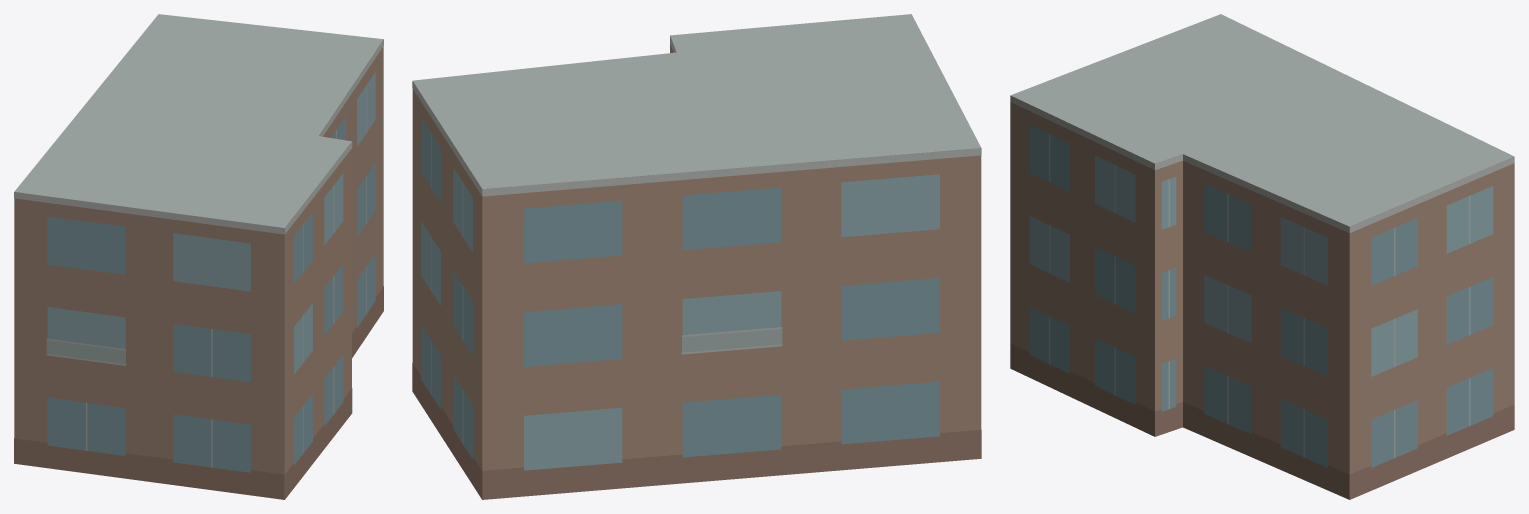
File: survey-upis-32839002.glb
3 views of the same model, side by side, from view 1: azimuth 30°, elevation 25°; view 2: azimuth 150°, elevation 25°; view 3: azimuth 270°, elevation 25° (orthographic). The views are drawn at different scales.
Visible parts, largest first — view 1: survey-upis-32839002.tmp; view 2: survey-upis-32839002.tmp; view 3: survey-upis-32839002.tmp.
Part boxes in pixels (box(x1,y1,x2,y2)): survey-upis-32839002.tmp: box(14, 14, 383, 499); survey-upis-32839002.tmp: box(412, 14, 981, 499); survey-upis-32839002.tmp: box(1010, 14, 1514, 499).
Size of the model in its own units: 17.04 by 10.2 by 17.07.
